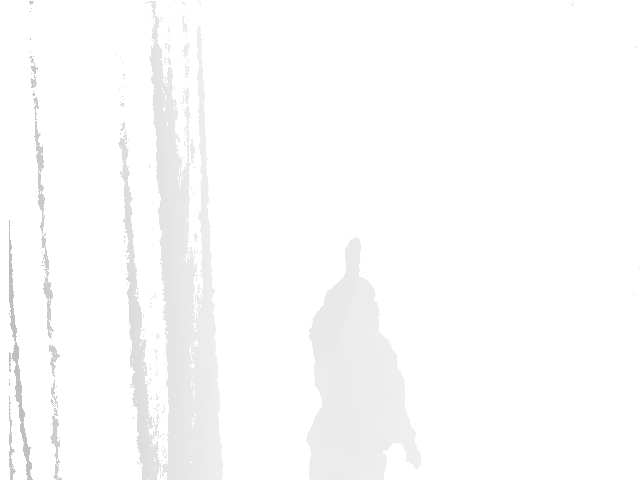hand: (341, 235, 364, 277)
head: (320, 277, 381, 338)
person: (304, 236, 423, 480)
